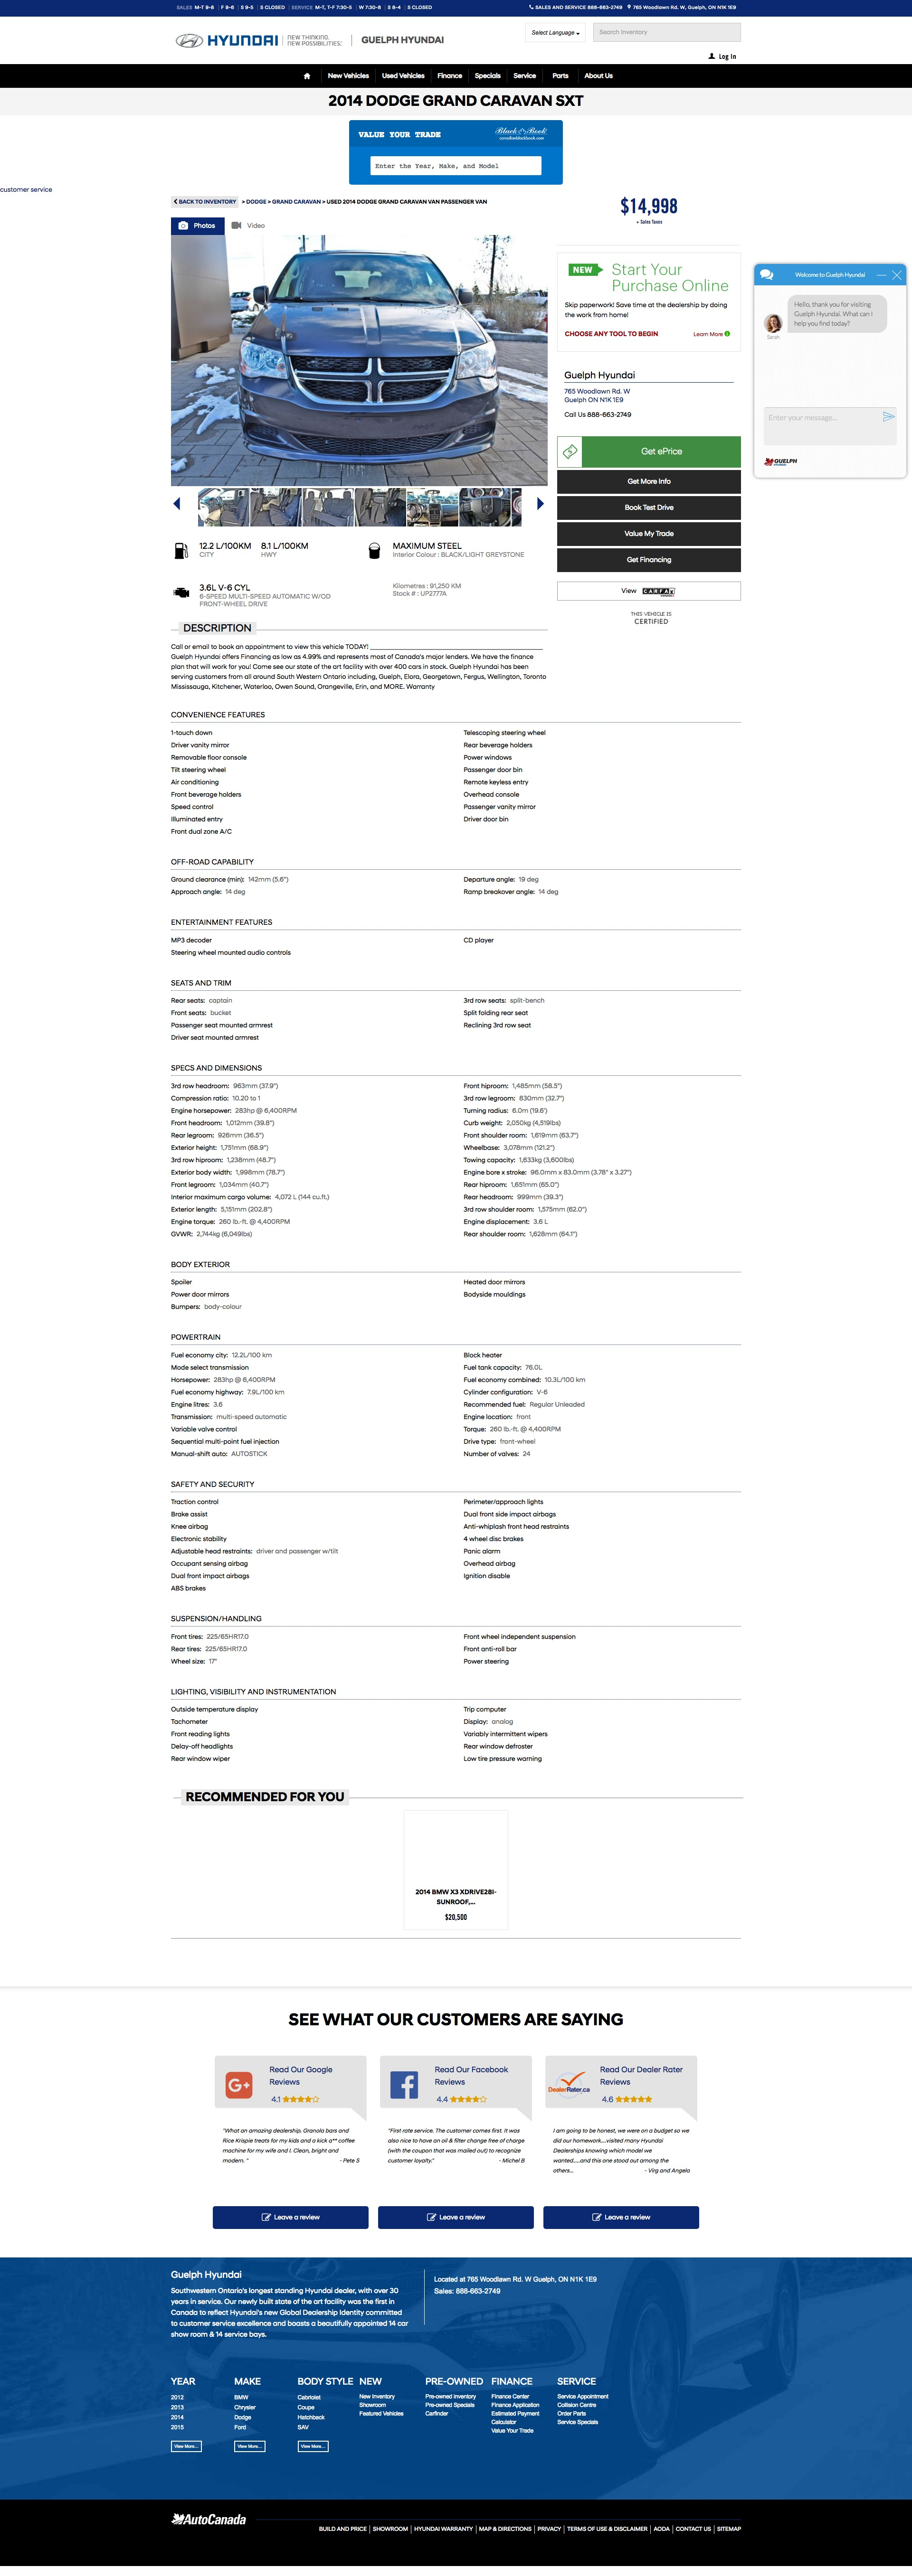car: (537, 498, 546, 511)
